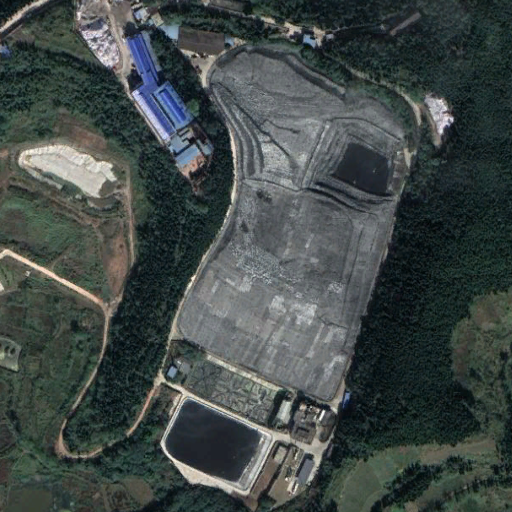lf: (159, 40, 414, 400)
